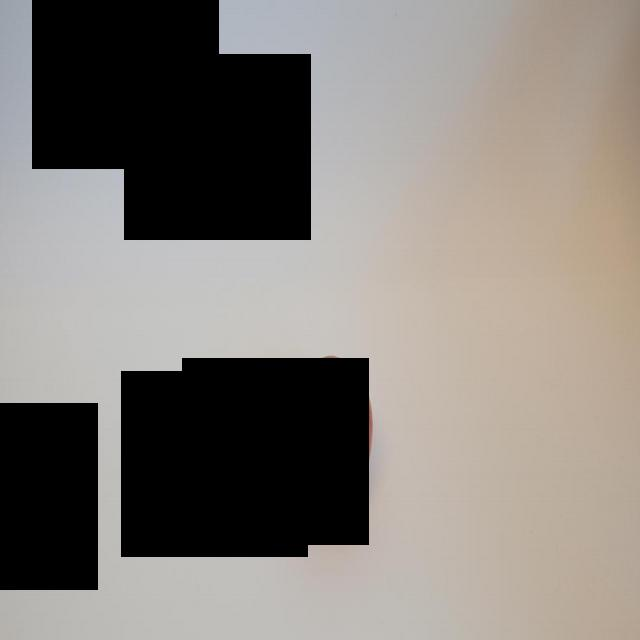apple: (274, 339, 374, 526)
